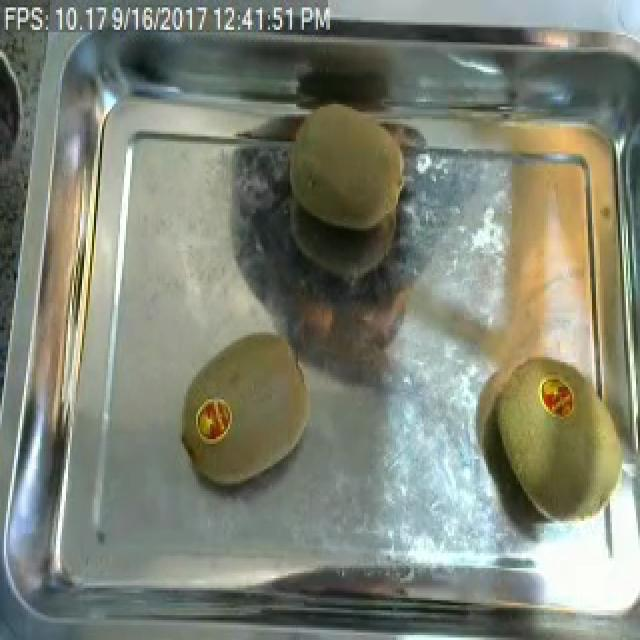Fruit: (478, 337, 640, 536), (176, 323, 322, 496), (272, 94, 418, 243)
